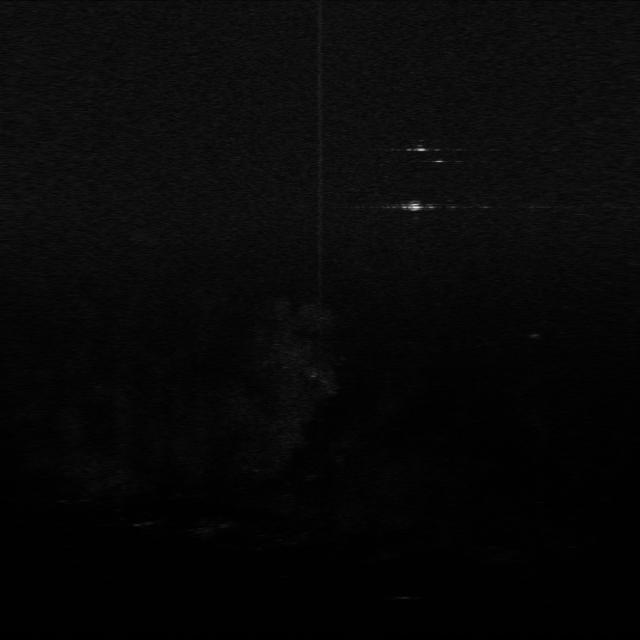rov: (402, 197, 424, 215)
